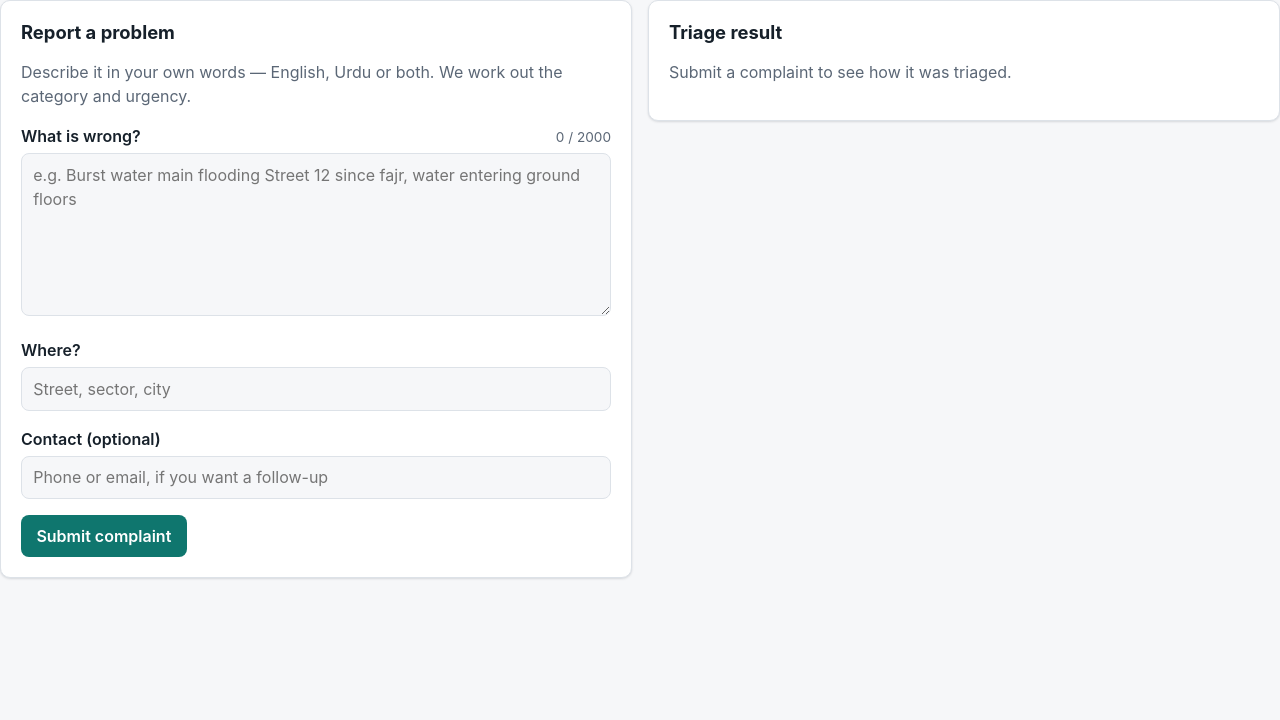
SubmitPage › maps the server's field-level 400 errors onto the form
In the text box labelled "What is wrong?": (316,235) [21,153,611,316], type "Water pipe leaking near masjid"
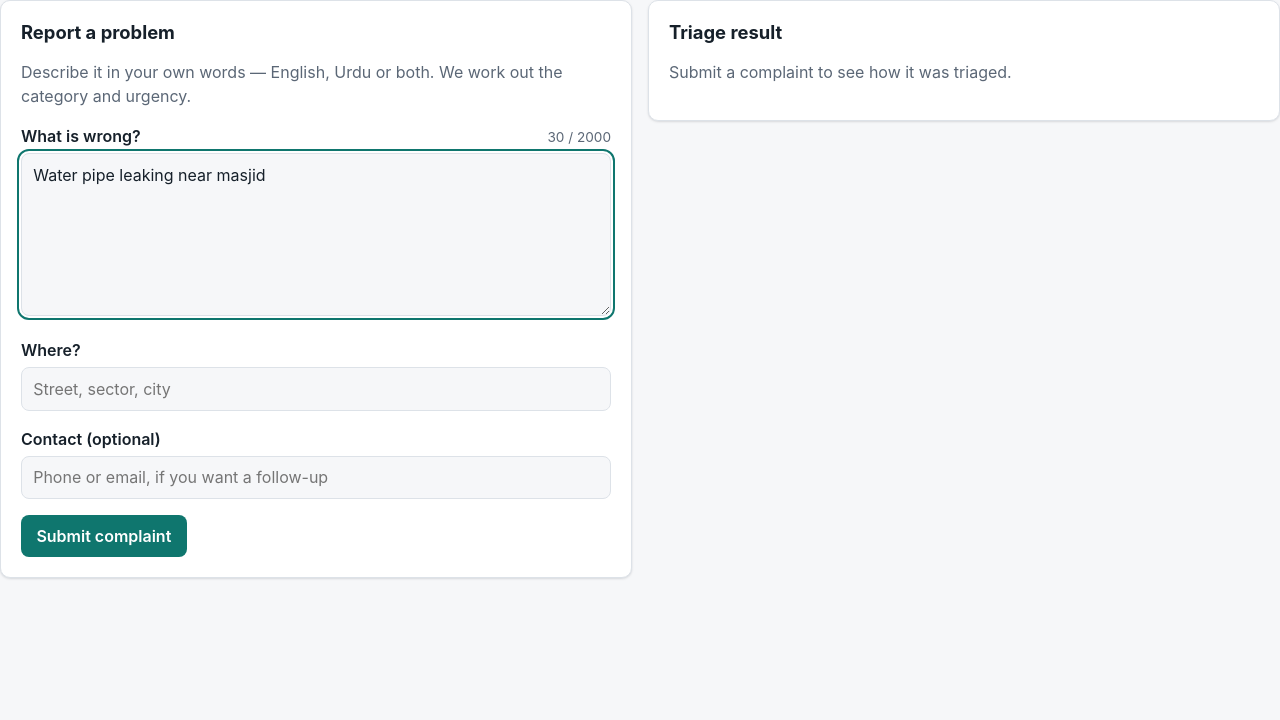
In the field labelled "Where?": (316,389) [21,367,611,411], type "Somewhere"
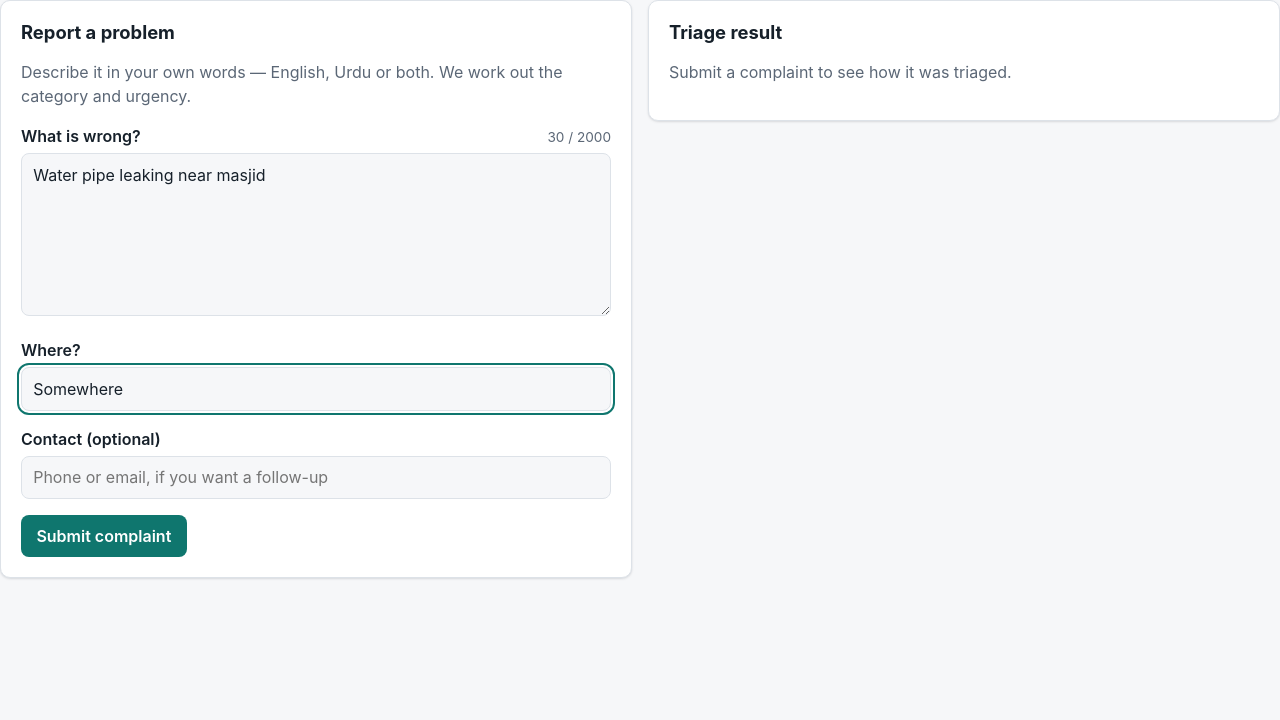
Click the button "Submit complaint": (104,536) [21,515,187,557]
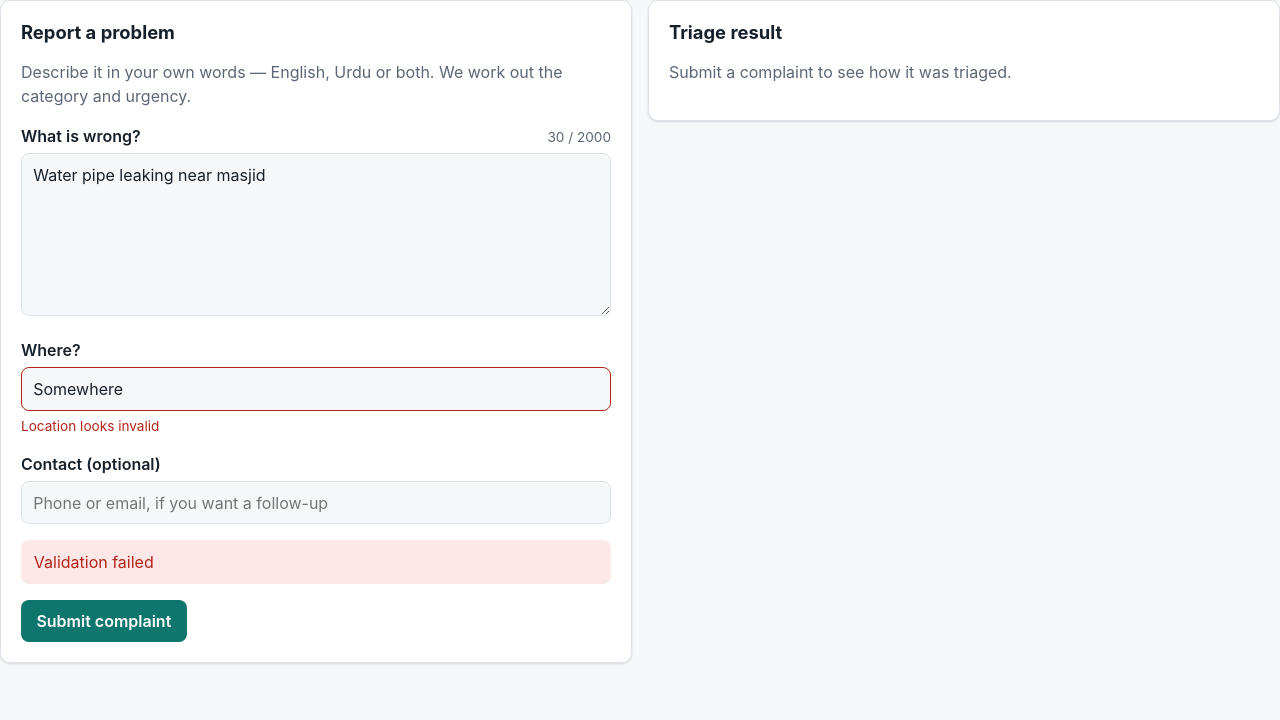
expect the text "Location looks invalid" is shown: met, box [21,418,159,434]
